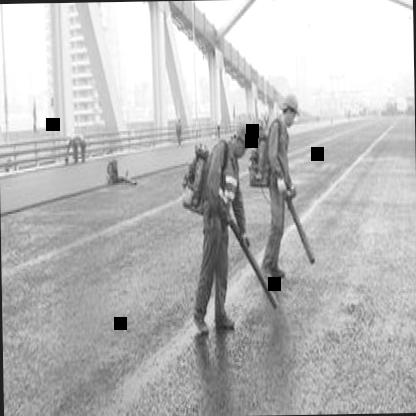helmet: (230, 112, 256, 158), (280, 86, 300, 126)
